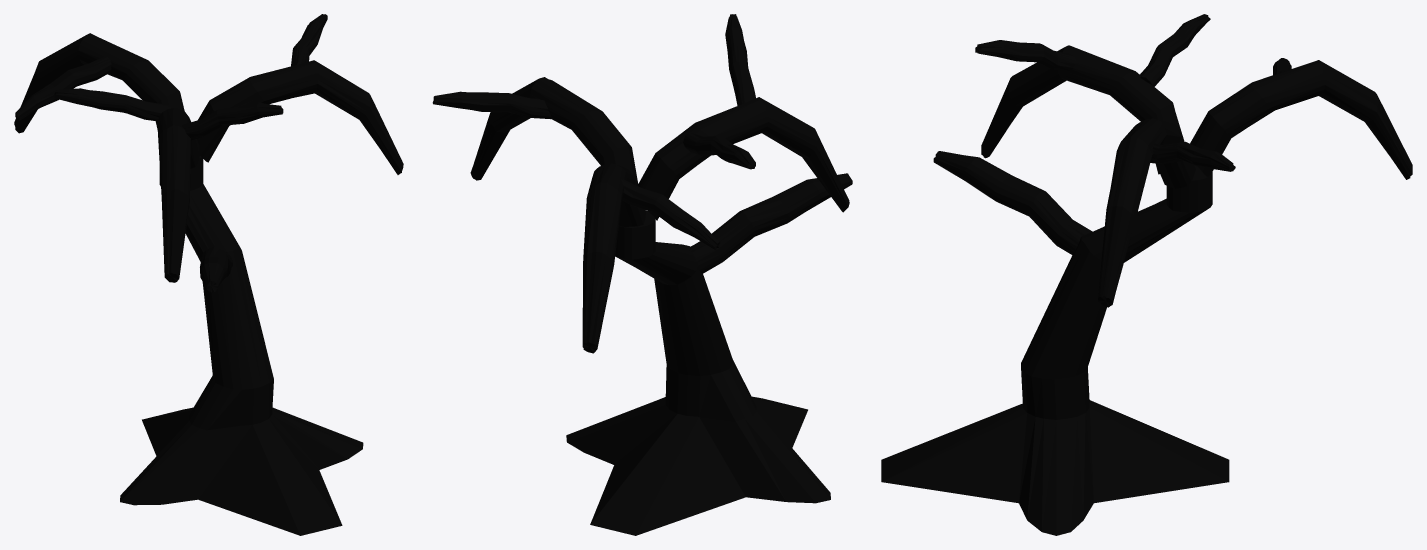
The model's file is Oldtree.glb.
The picture shows the model from 3 angles, left to right: view 1: azimuth 30°, elevation 25°; view 2: azimuth 150°, elevation 25°; view 3: azimuth 270°, elevation 25°; orthographic projection. The views are drawn at different scales.
Parts seen in each view (by area): view 1: Oldtree; view 2: Oldtree; view 3: Oldtree.
Part boxes in pixels (x1,y1,x2,y2): Oldtree: (14, 14, 403, 535); Oldtree: (432, 14, 852, 535); Oldtree: (881, 14, 1412, 535).
Size of the model in its own units: 89.36 by 109 by 123.
1 material, 1 textured.
